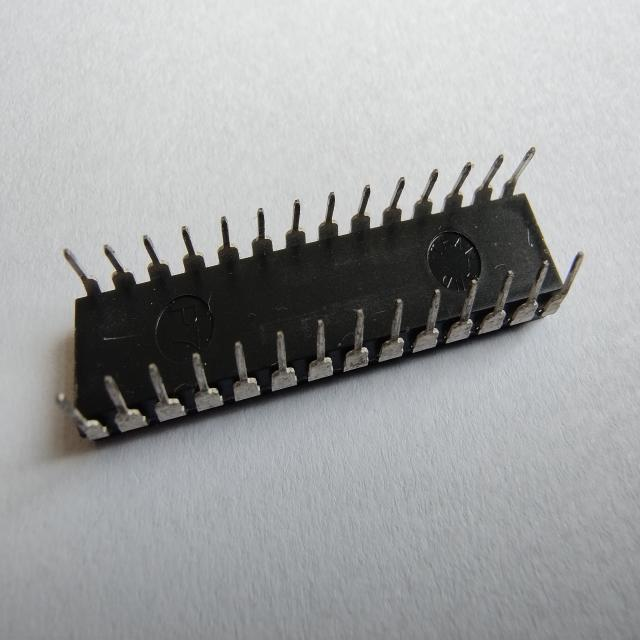atmega: (55, 144, 586, 445)
